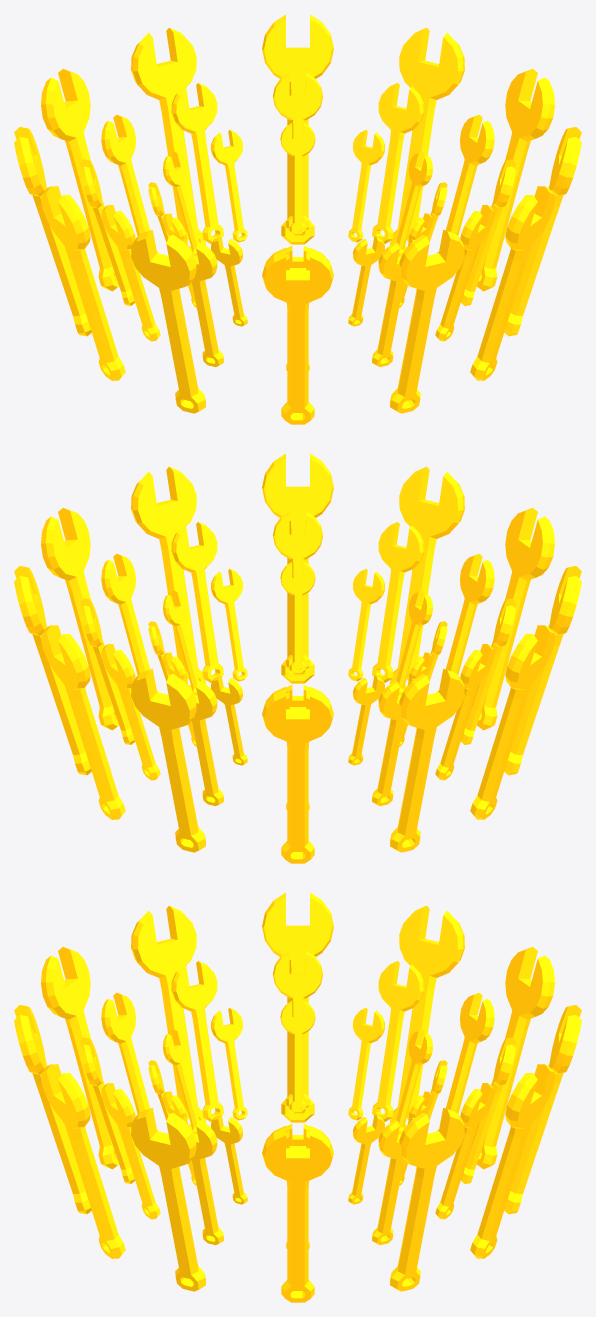
File: FierceFlyingScrap.fbx
3 renders of one model, top to bottom at view 1: azimuth 30°, elevation 25°; view 2: azimuth 150°, elevation 25°; view 3: azimuth 270°, elevation 25°, orthographic.
Visible parts, largest first — view 1: FierceFlyingScrap; view 2: FierceFlyingScrap; view 3: FierceFlyingScrap.
Boxes of the visible parts, x1,y1,x2,y2 form: FierceFlyingScrap: (14,14,581,424); FierceFlyingScrap: (14,453,581,863); FierceFlyingScrap: (14,892,581,1302).
Bounding box in the file's own units: 974 × 382 × 974.
